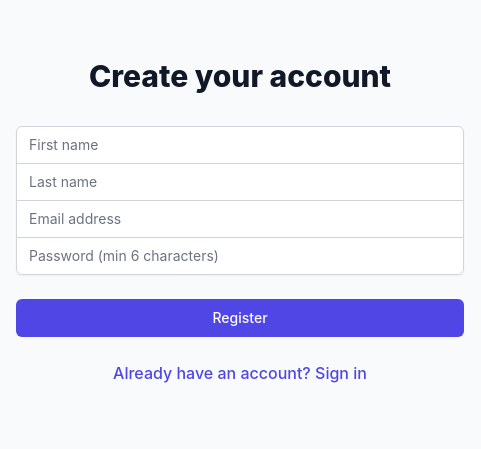
Test: Register › should show error for network error
In the field with placeholder "First name": x=240, y=144 [16,126,464,164], type "John"
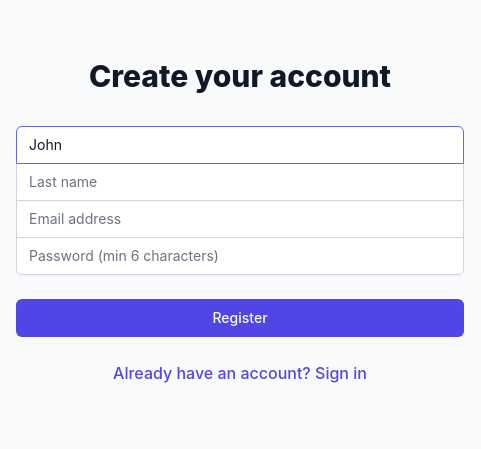
In the field with placeholder "Last name": x=240, y=182 [16,162,464,200], type "Doe"
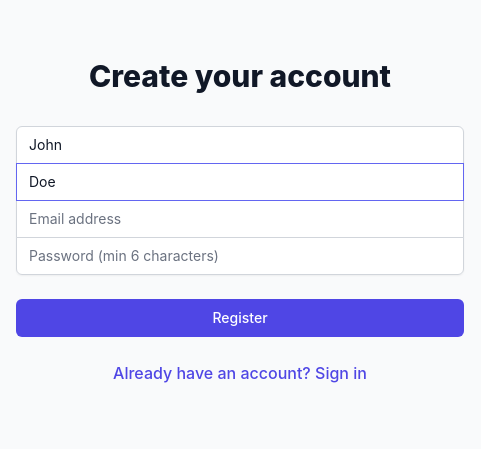
In the field with placeholder "Email address": x=240, y=218 [16,200,464,238], type "john@example.com"
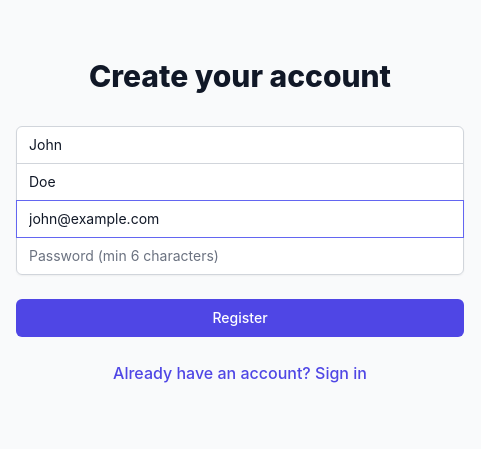
In the password field with placeholder "Password (min 6 characters)": x=240, y=256 [16,236,464,274], type "password1"
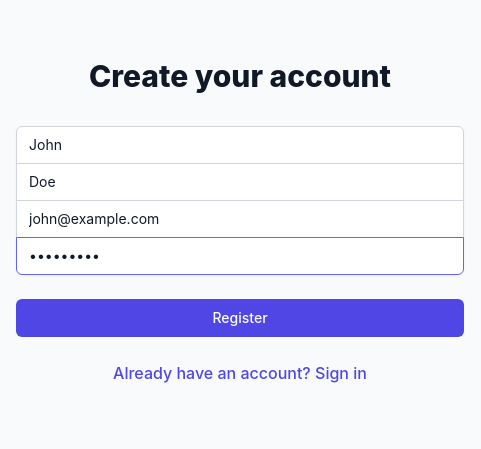
Click the button "Register": x=240, y=318 [16,298,464,336]
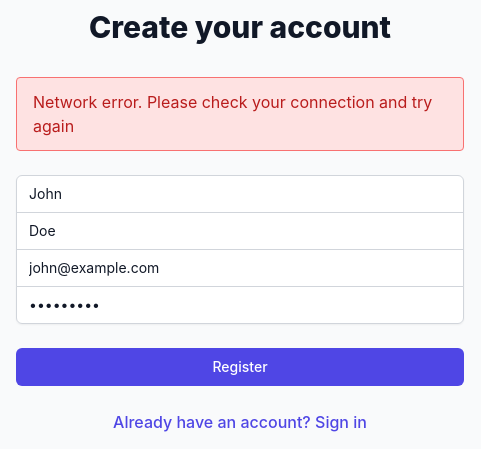
Expected: the text "Network error. Please check your connection and try again" is shown, [16,76,464,150]
